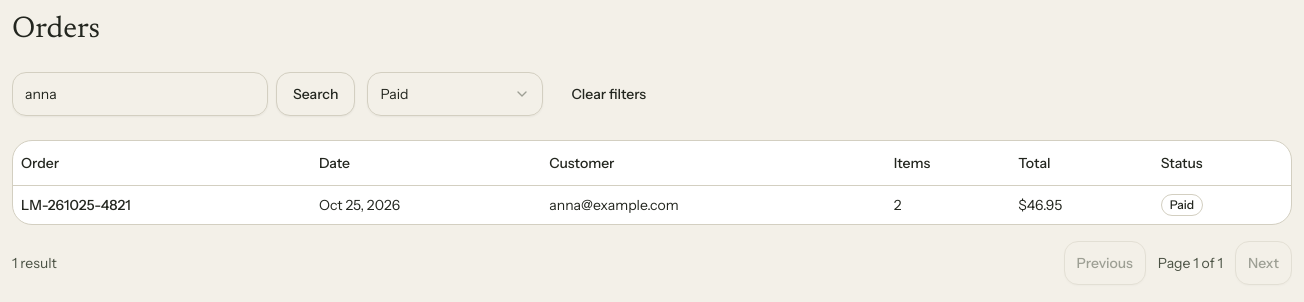
Test: admin OrdersPage › clears the filters
Expected: the link "LM-261025-4821" is shown, left=21, top=196, right=131, bottom=214
Click the button "Clear filters" at {"x": 609, "y": 94}, box left=556, top=72, right=662, bottom=116
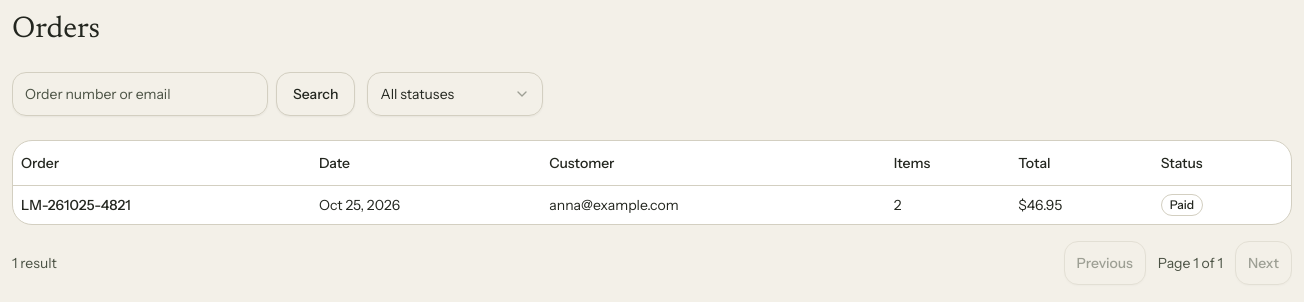
Expected: the button "Clear filters" is gone
